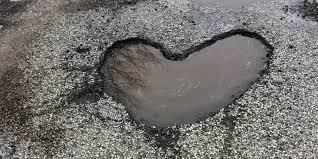pothole: (96, 27, 281, 139)
